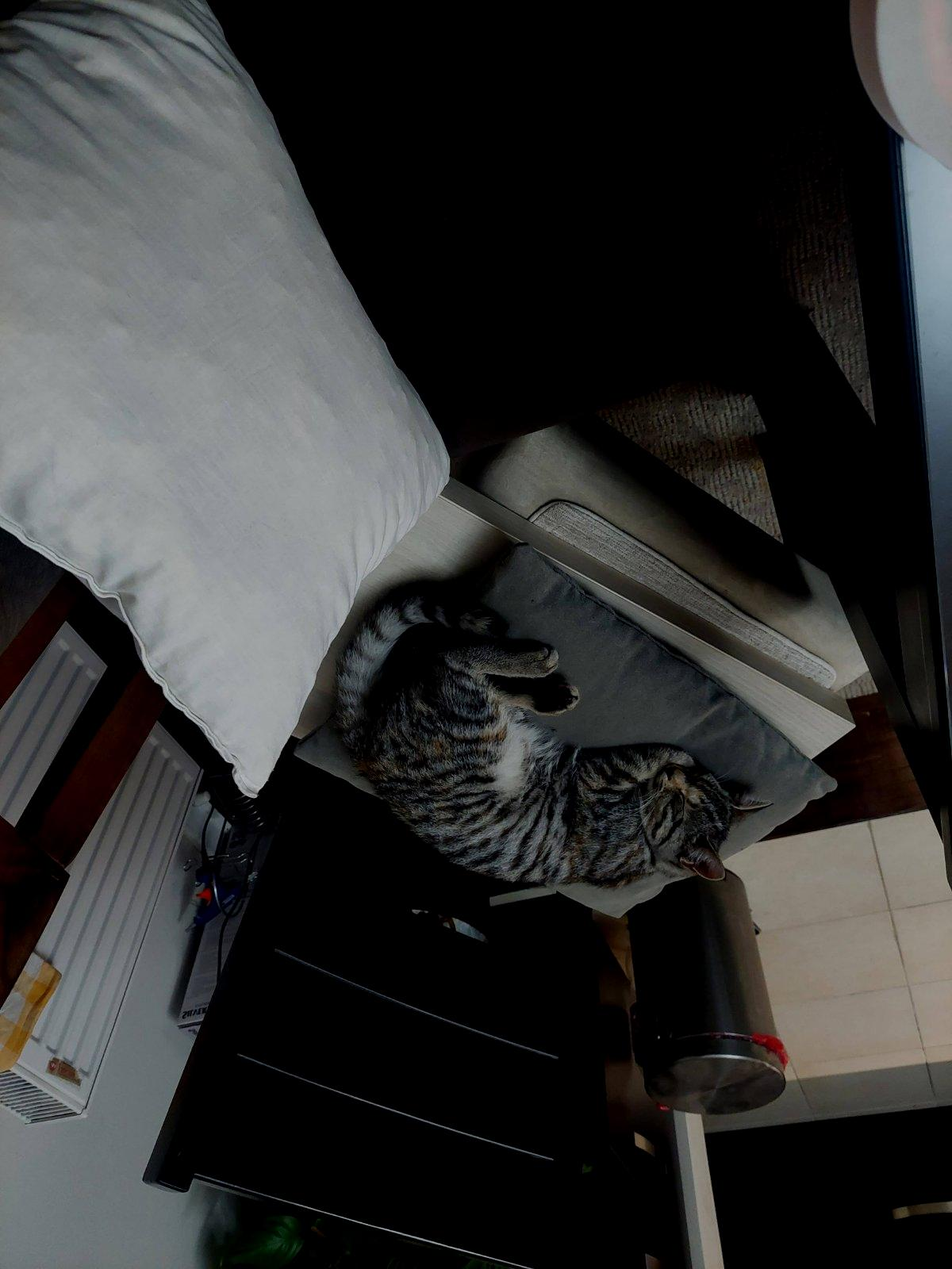macka: (337, 584, 767, 888)
